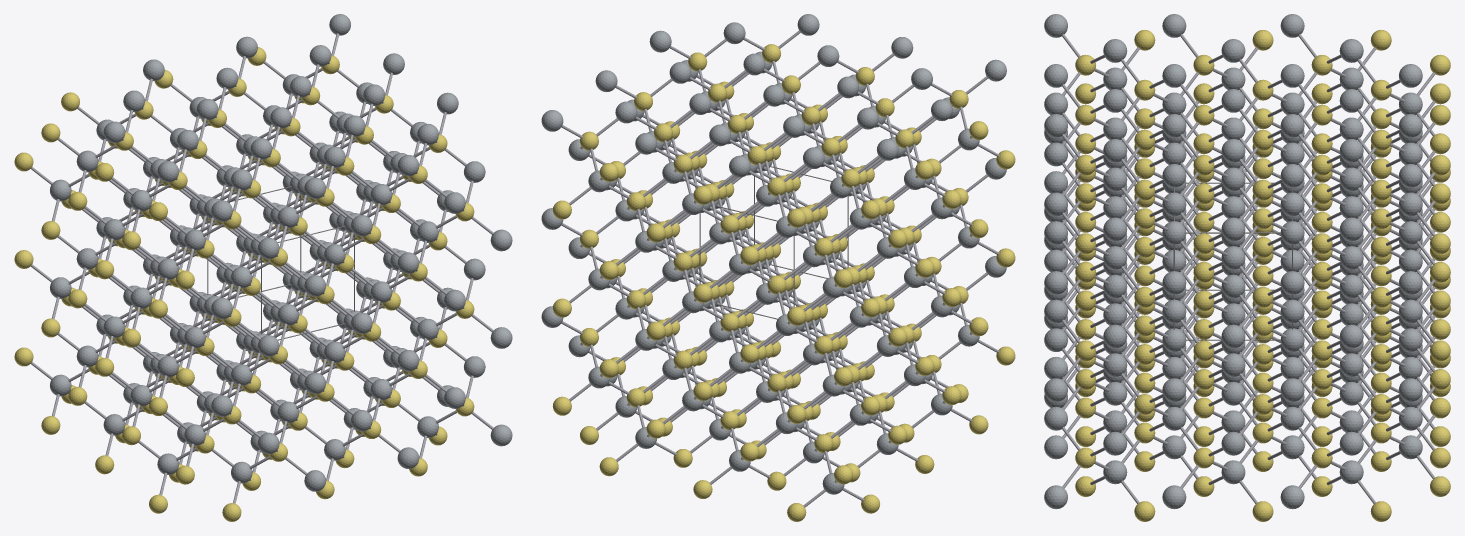
The model's file is ZnS_zinc_blende_AR.glb.
3 renders of one model, left to right at view 1: azimuth 30°, elevation 25°; view 2: azimuth 150°, elevation 25°; view 3: azimuth 270°, elevation 25°, orthographic. The views are drawn at different scales.
Visible parts, largest first — view 1: Zn_atoms, coordination_bonds, S_atoms, unit_cell_outline; view 2: S_atoms, Zn_atoms, coordination_bonds, unit_cell_outline; view 3: Zn_atoms, S_atoms, coordination_bonds, unit_cell_outline.
Part boxes in pixels (bbox=[...]): Zn_atoms: bbox=[50, 14, 512, 491]; coordination_bonds: bbox=[30, 33, 493, 503]; S_atoms: bbox=[14, 47, 474, 521]; unit_cell_outline: bbox=[207, 186, 354, 340]; S_atoms: bbox=[552, 44, 1015, 521]; Zn_atoms: bbox=[541, 14, 1006, 494]; coordination_bonds: bbox=[561, 30, 999, 507]; unit_cell_outline: bbox=[699, 164, 848, 319]; Zn_atoms: bbox=[1044, 14, 1422, 509]; S_atoms: bbox=[1075, 30, 1450, 521]; coordination_bonds: bbox=[1061, 34, 1435, 503]; unit_cell_outline: bbox=[1173, 182, 1292, 340].
Bounding box in the file's own units: 18.61 × 18.61 × 18.61.
